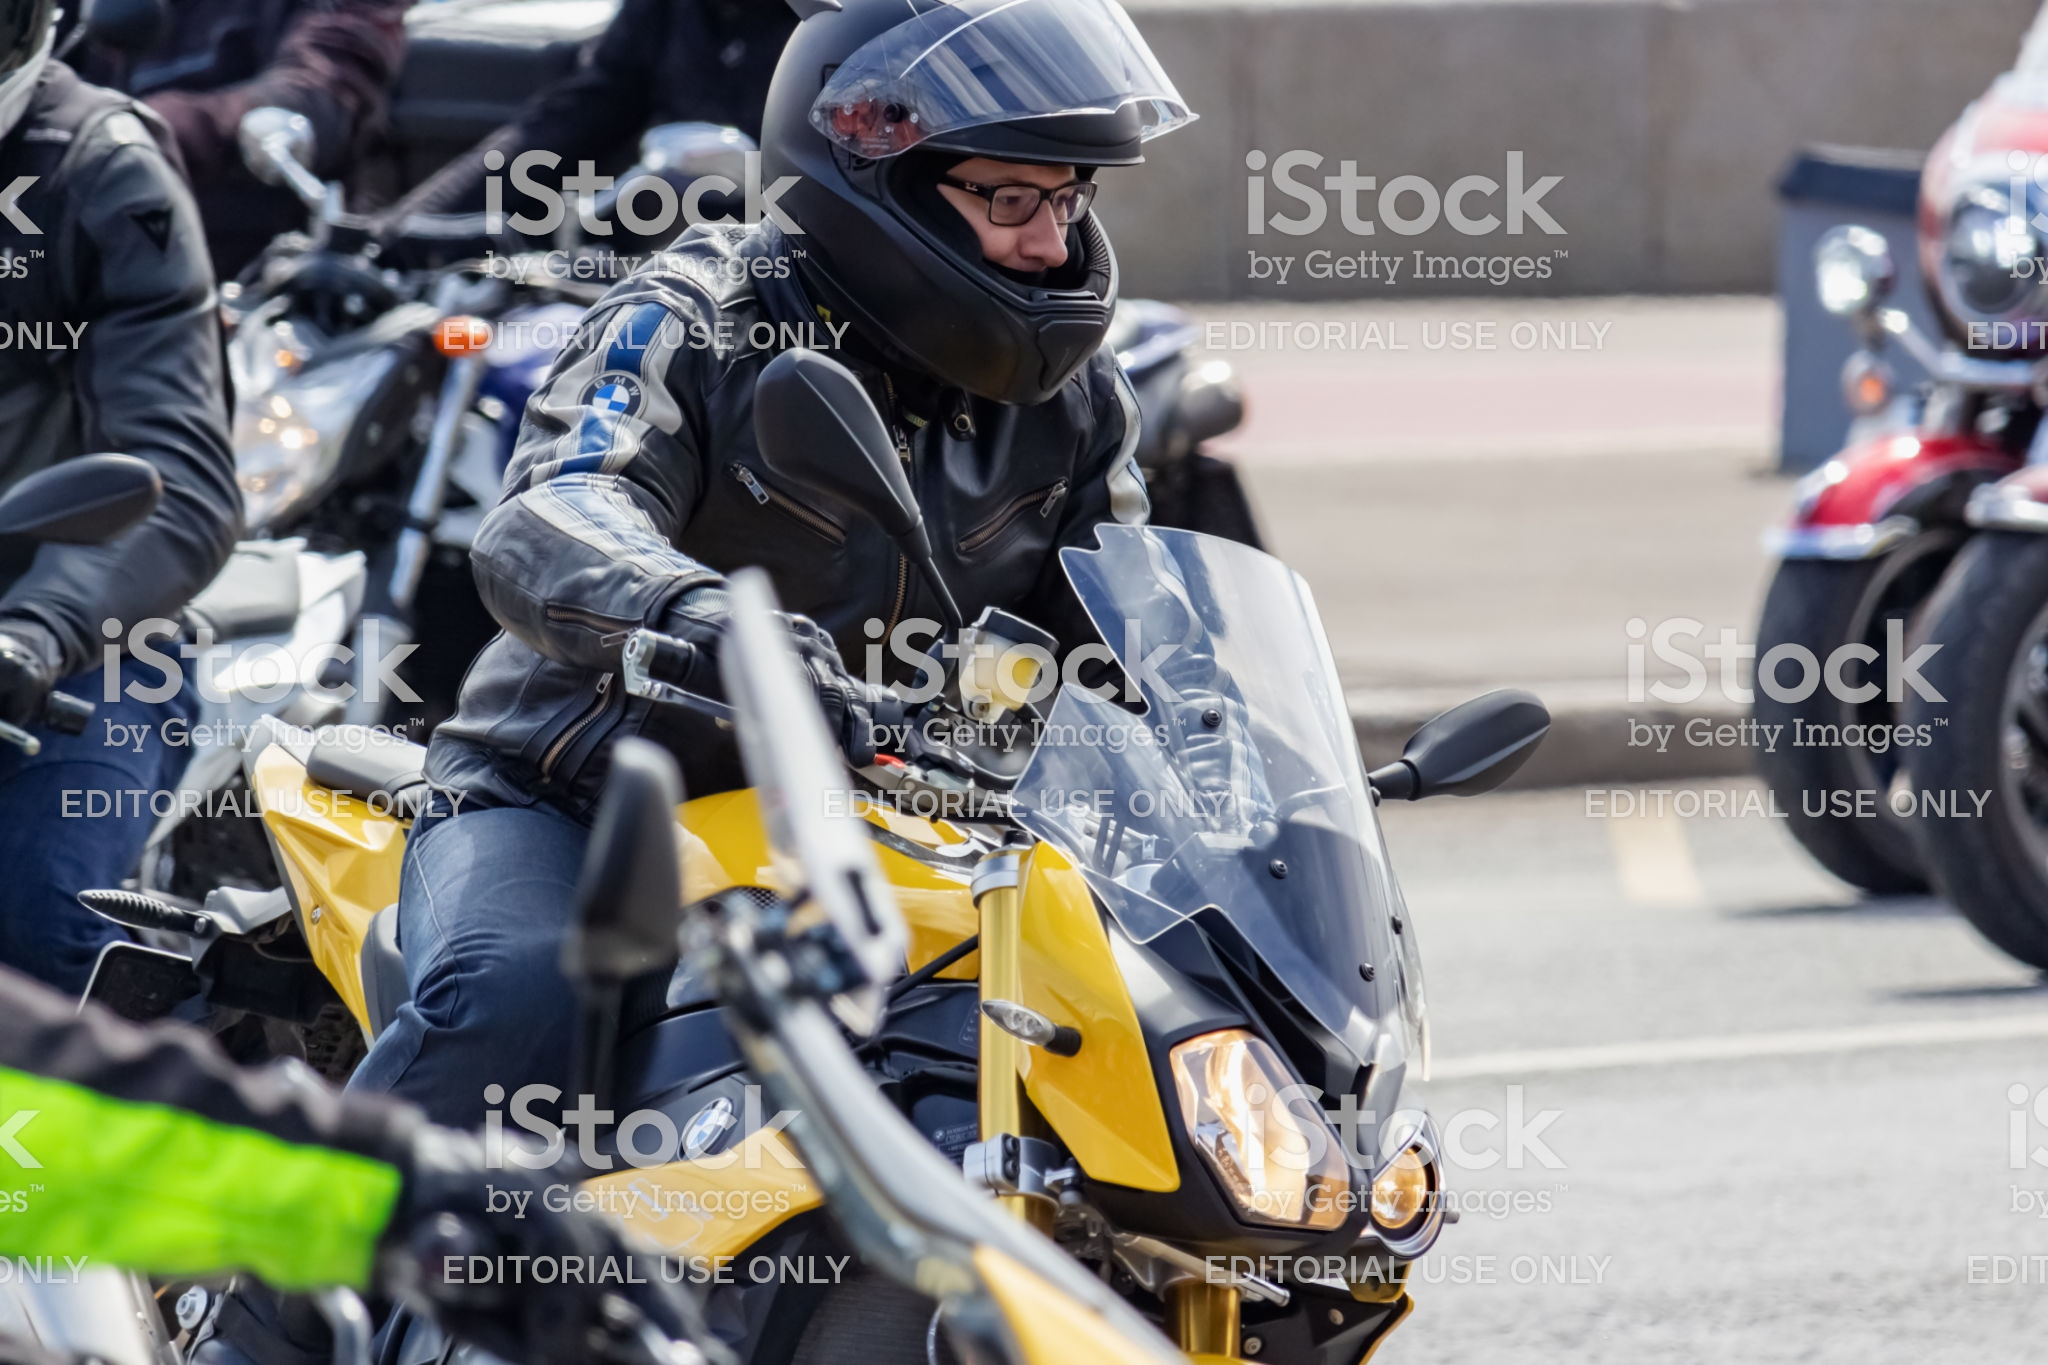helmet: (752, 17, 1195, 402)
